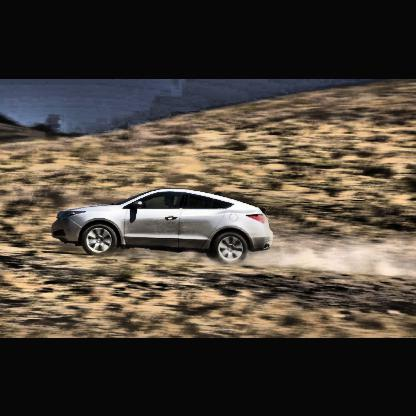Acura ZDX Hatchback 2012: (53, 188, 275, 268)
